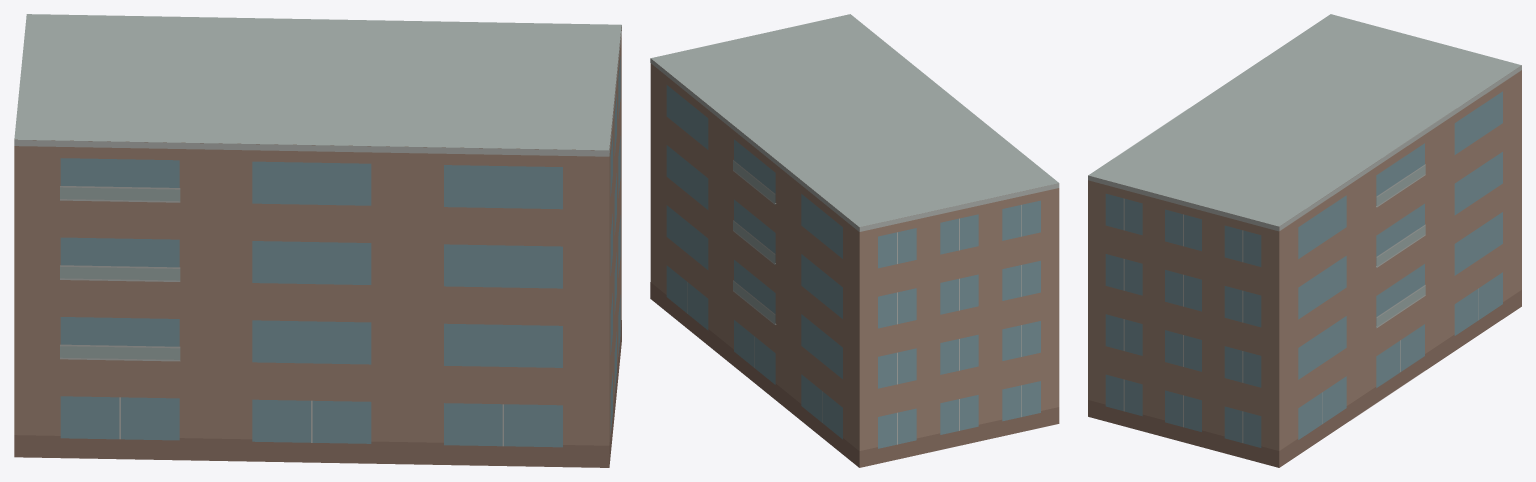
File: survey-upis-32672285.glb
The picture shows the model from 3 angles, left to right: view 1: azimuth 30°, elevation 25°; view 2: azimuth 150°, elevation 25°; view 3: azimuth 270°, elevation 25°; orthographic projection. The views are drawn at different scales.
Parts seen in each view (by area): view 1: survey-upis-32672285.tmp; view 2: survey-upis-32672285.tmp; view 3: survey-upis-32672285.tmp.
Boxes of the visible parts, x1,y1,x2,y2 form: survey-upis-32672285.tmp: (14, 14, 621, 467); survey-upis-32672285.tmp: (650, 14, 1059, 467); survey-upis-32672285.tmp: (1088, 14, 1521, 467).
Bounding box in the file's own units: 23.07 × 12.2 × 19.89.
